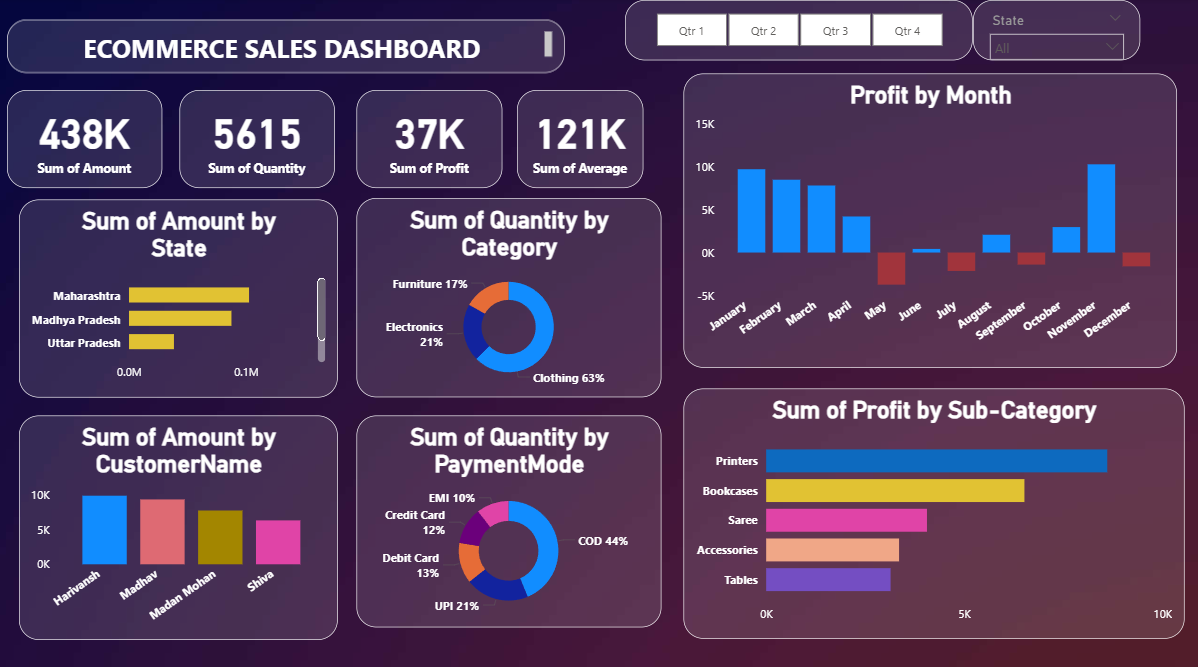

Layout of this report page (visuals, bound fields, positions):
{"tool":"powerbi","page":{"name":"Page 1","canvas":[1280,720],"ordinal":0},"visuals":[{"type":"textbox","box":[9.4,24.6,591.5,56.7],"z":0},{"type":"columnChart","title":"Profit by Month","fields":{"Category":["Orders.Order Date.Variation.Date Hierarchy.Month"],"Y":["Sum(Details.Profit)"]},"box":[727.6,81.3,523.5,311.8],"z":1000},{"type":"barChart","fields":{"Category":["Details.Sub-Category"],"Y":["Sum(Details.Profit)"]},"box":[726.9,415.1,531.3,265.6],"z":2000},{"type":"donutChart","fields":{"Category":["Details.Category"],"Y":["Sum(Details.Quantity)"]},"box":[379.8,213.5,323.2,211.7],"z":3000},{"type":"donutChart","fields":{"Category":["Details.PaymentMode"],"Y":["Sum(Details.Quantity)"]},"box":[379.8,444.1,323.2,224.9],"z":4000},{"type":"card","fields":{"Values":["Sum(Details.Amount)"]},"box":[9.4,98.3,164.4,103.9],"z":5000},{"type":"card","fields":{"Values":["Sum(Details.Quantity)"]},"box":[192.8,98.3,164.4,103.9],"z":6000},{"type":"card","fields":{"Values":["Sum(Details.Profit)"]},"box":[379.8,98.3,155,103.9],"z":7000},{"type":"card","fields":{"Values":["Sum(Details.Average)"]},"box":[549.9,98.3,134.2,103.9],"z":8000},{"type":"barChart","fields":{"Category":["Orders.State"],"Y":["Sum(Details.Amount)"]},"box":[22.7,215.4,338.3,209.8],"z":9000},{"type":"columnChart","fields":{"Category":["Orders.CustomerName"],"Y":["Sum(Details.Amount)"]},"box":[22.7,444.1,338.3,238.1],"z":10000},{"type":"slicer","fields":{"Values":["Orders.Order Date.Variation.Date Hierarchy.Quarter"]},"box":[665.2,3.8,368.5,64.3],"z":11000},{"type":"slicer","fields":{"Values":["Orders.State"]},"box":[1033.7,3.8,177.6,64.3],"z":12000}]}

Visuals, with their boxes in screenshot pixels (x1, y1, x2, y2), scaled from the page's 1280x720 canvas onto the 1198x667 screenshot:
textbox: pyautogui.locateOnScreen(9, 23, 562, 75)
"Profit by Month" columnChart: pyautogui.locateOnScreen(681, 75, 1171, 364)
barChart - Details.Sub-Category x Sum(Details.Profit): pyautogui.locateOnScreen(680, 385, 1178, 631)
donutChart - Details.Category x Sum(Details.Quantity): pyautogui.locateOnScreen(355, 198, 658, 394)
donutChart - Details.PaymentMode x Sum(Details.Quantity): pyautogui.locateOnScreen(355, 411, 658, 620)
card - Sum(Details.Amount): pyautogui.locateOnScreen(9, 91, 163, 187)
card - Sum(Details.Quantity): pyautogui.locateOnScreen(180, 91, 334, 187)
card - Sum(Details.Profit): pyautogui.locateOnScreen(355, 91, 501, 187)
card - Sum(Details.Average): pyautogui.locateOnScreen(515, 91, 640, 187)
barChart - Orders.State x Sum(Details.Amount): pyautogui.locateOnScreen(21, 200, 338, 394)
columnChart - Orders.CustomerName x Sum(Details.Amount): pyautogui.locateOnScreen(21, 411, 338, 632)
slicer - Orders.Order Date.Variation.Date Hierarchy.Quarter: pyautogui.locateOnScreen(623, 4, 967, 63)
slicer - Orders.State: pyautogui.locateOnScreen(967, 4, 1134, 63)
